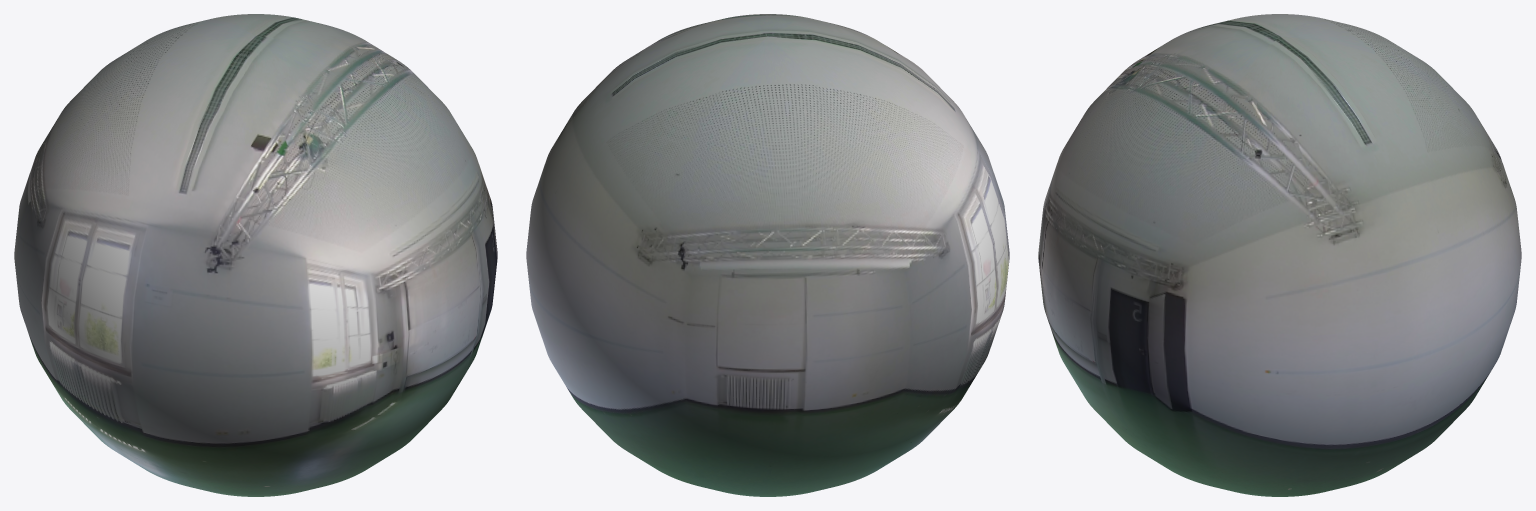
Rendered from studio-sphere.fbx.
3 views of the same model, side by side, from view 1: azimuth 30°, elevation 25°; view 2: azimuth 150°, elevation 25°; view 3: azimuth 270°, elevation 25° (orthographic).
Parts seen in each view (by area): view 1: room; view 2: room; view 3: room.
Boxes of the visible parts, x1,y1,x2,y2 form: room: [14, 14, 497, 496]; room: [526, 14, 1009, 496]; room: [1038, 14, 1521, 496].
Bounding box in the file's own units: 600 × 600 × 600.
